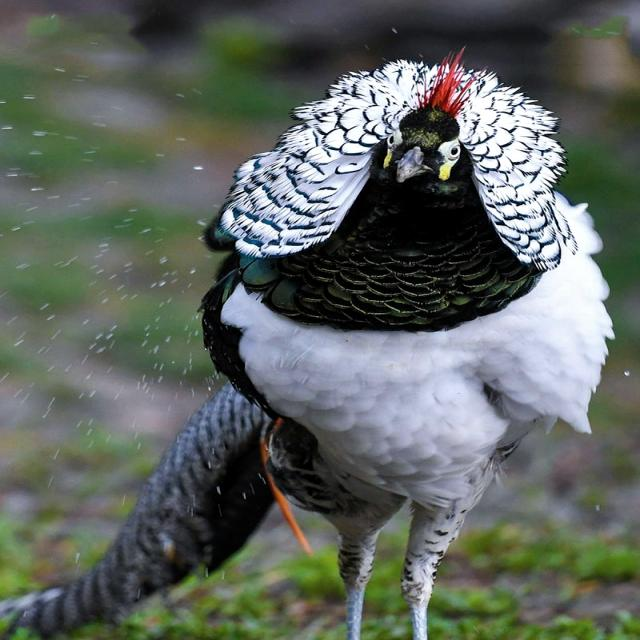Chrysolophus amherstiae: (0, 384, 273, 637)
